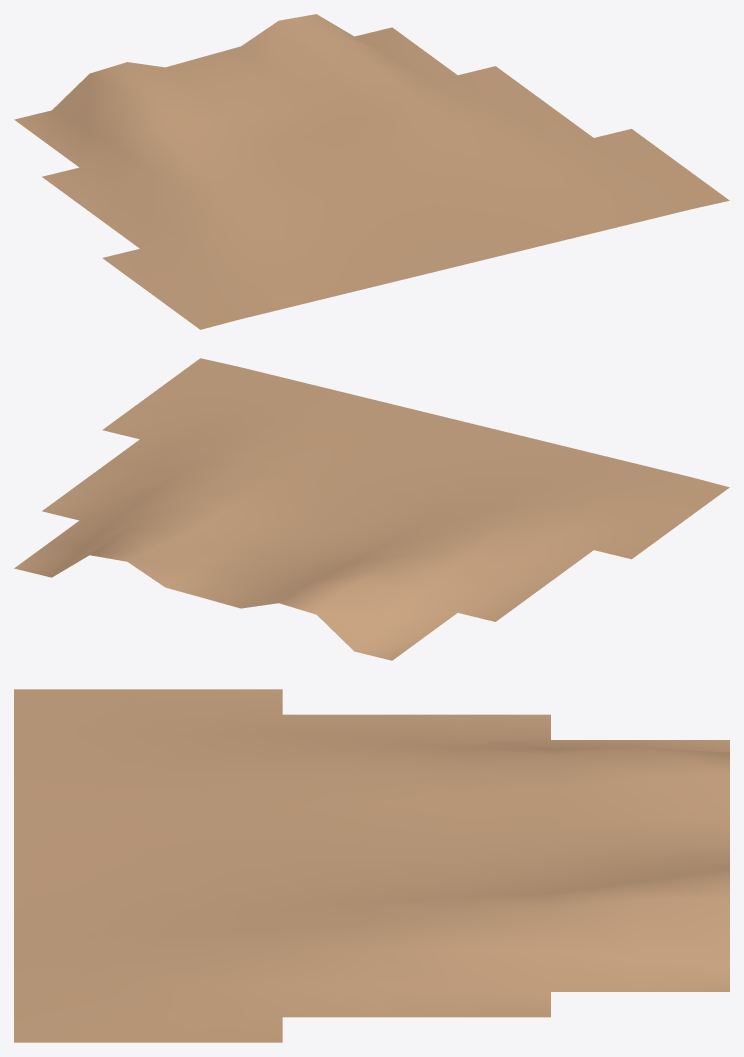
The model's file is sand_door.glb.
3 renders of one model, top to bottom at view 1: azimuth 30°, elevation 25°; view 2: azimuth 150°, elevation 25°; view 3: azimuth 270°, elevation 25°, orthographic. The views are drawn at different scales.
Visible parts, largest first — view 1: sand_door; view 2: sand_door; view 3: sand_door.
Boxes of the visible parts, bbox=[...] form: sand_door: bbox=[14, 14, 729, 329]; sand_door: bbox=[14, 358, 729, 660]; sand_door: bbox=[14, 689, 729, 1042].
Bounding box in the file's own units: 3.5 × 0.217 × 3.
